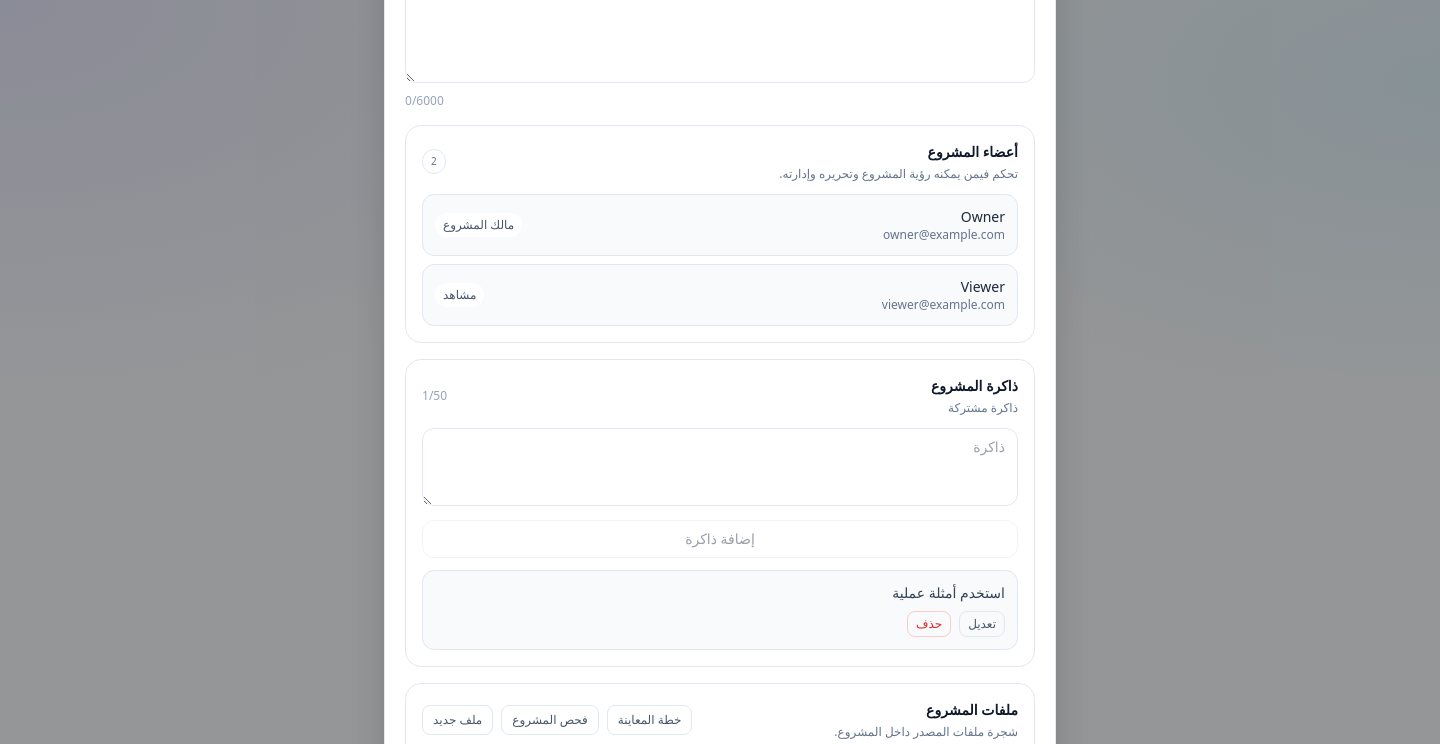
Scenario: ProjectEditor › loads and creates project memory
Check: the text "استخدم أمثلة عملية" is shown, box [892,582,1005,602]
In the text box with placeholder "ذاكرة": (720, 466) [422,428,1018,506], type "يفضل المستخدم العربية"
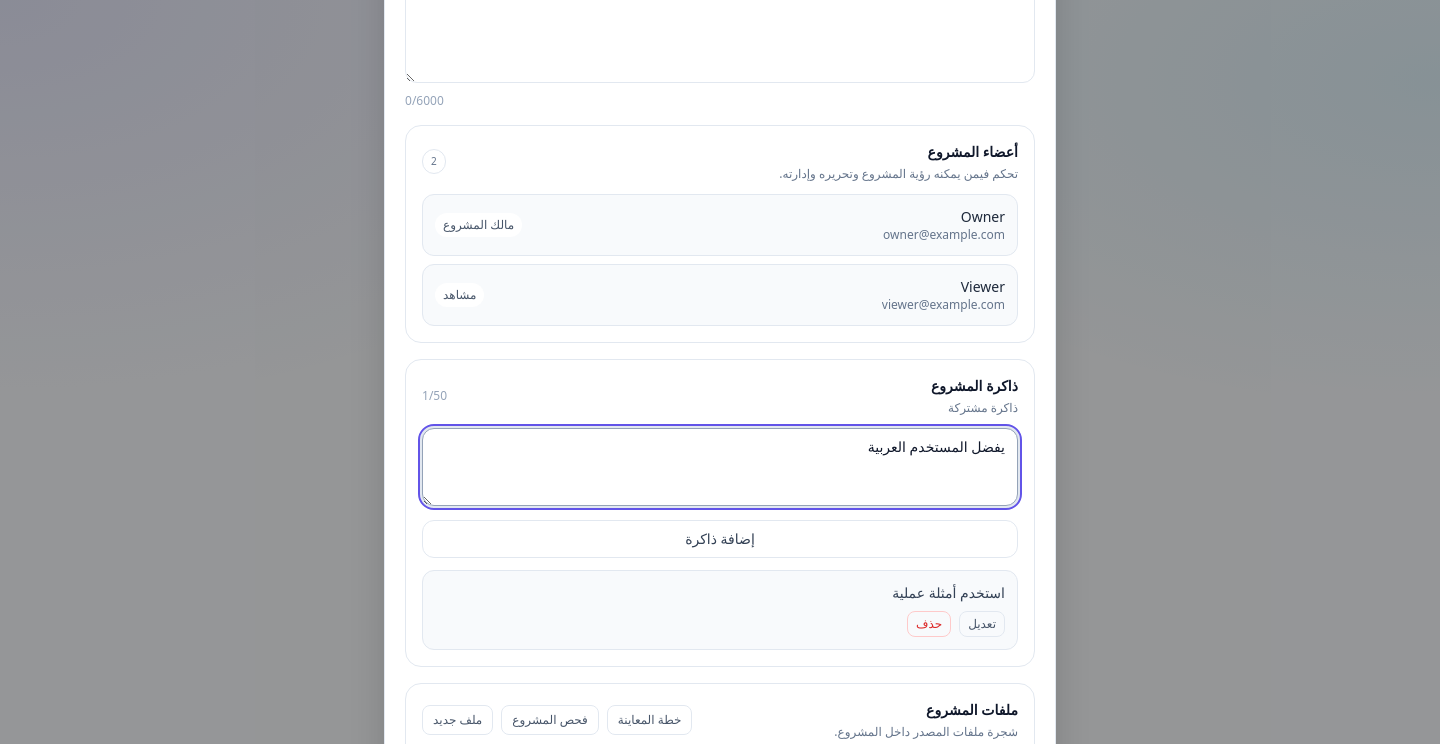
Click the button "إضافة ذاكرة": (720, 538) [422,520,1018,558]
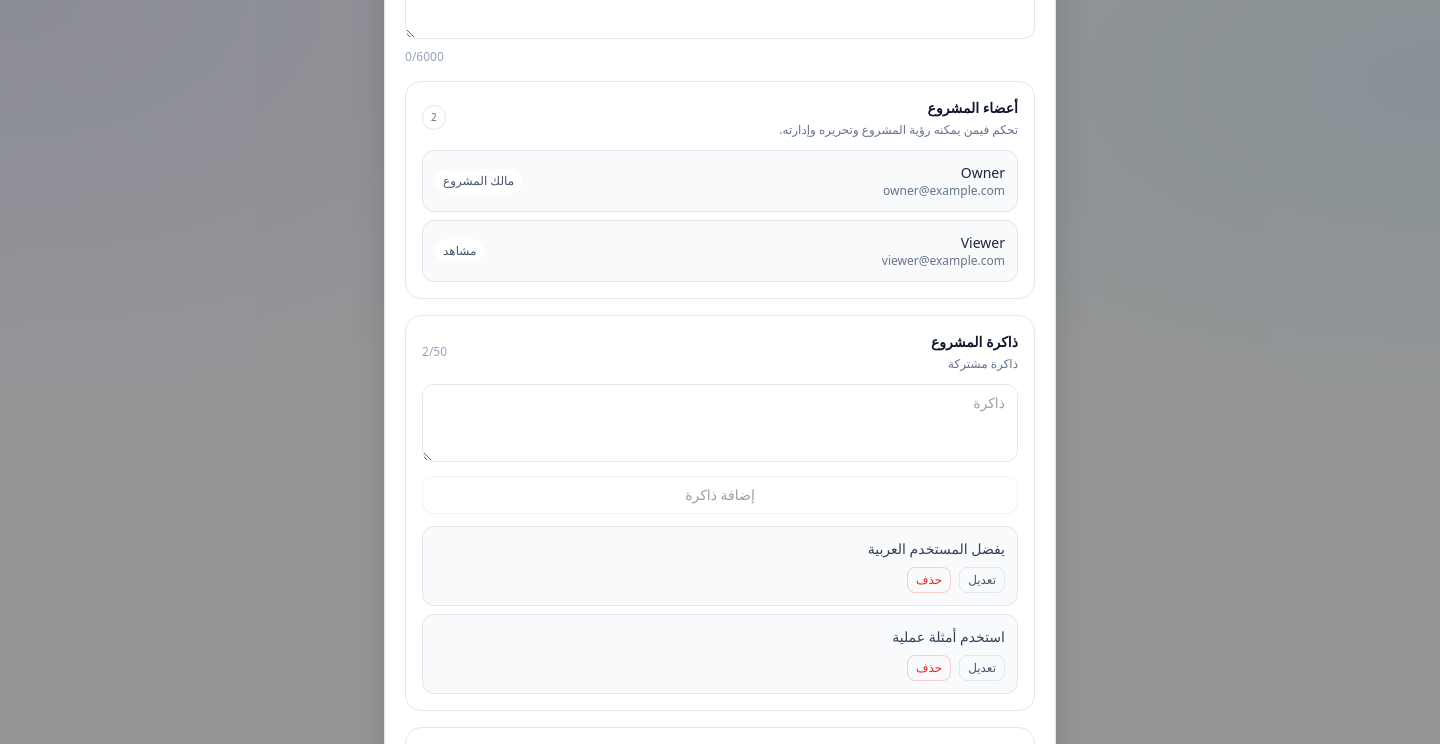
Check: the text "يفضل المستخدم العربية" is shown, box [868,538,1005,558]
